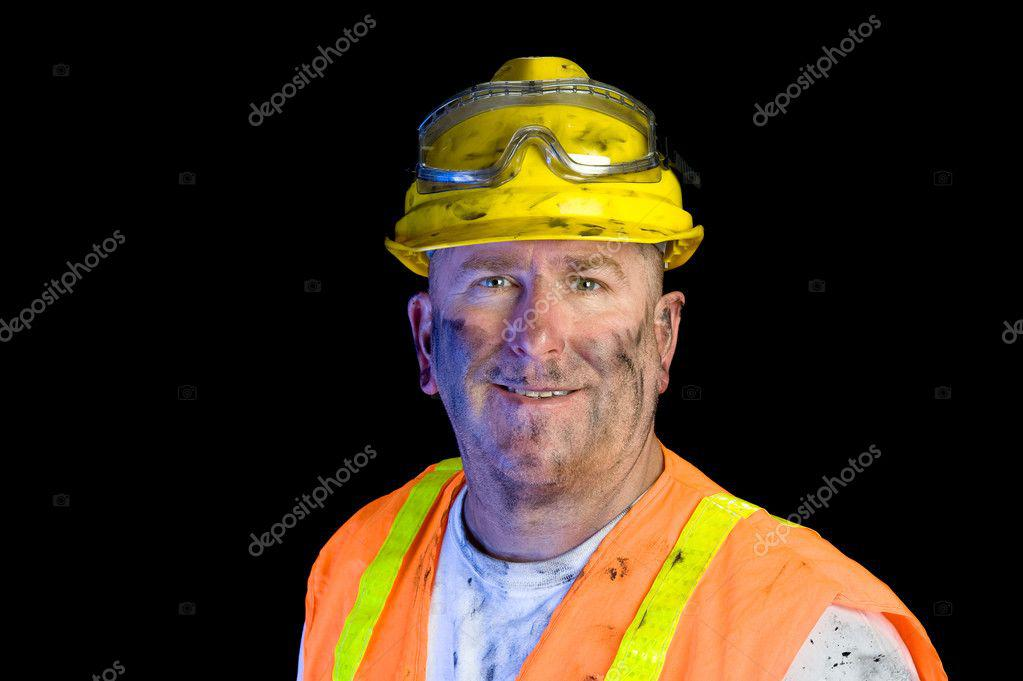hardhat: (387, 57, 707, 270)
worker: (297, 54, 941, 679)
